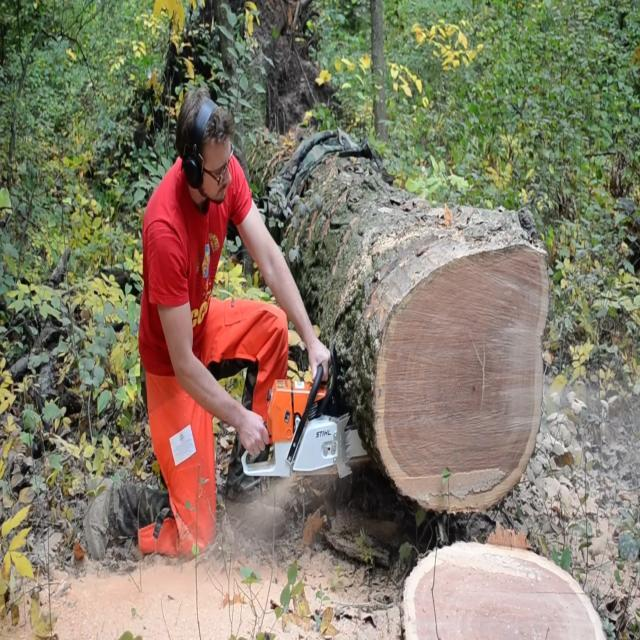Chainsaw: (232, 344, 376, 489)
